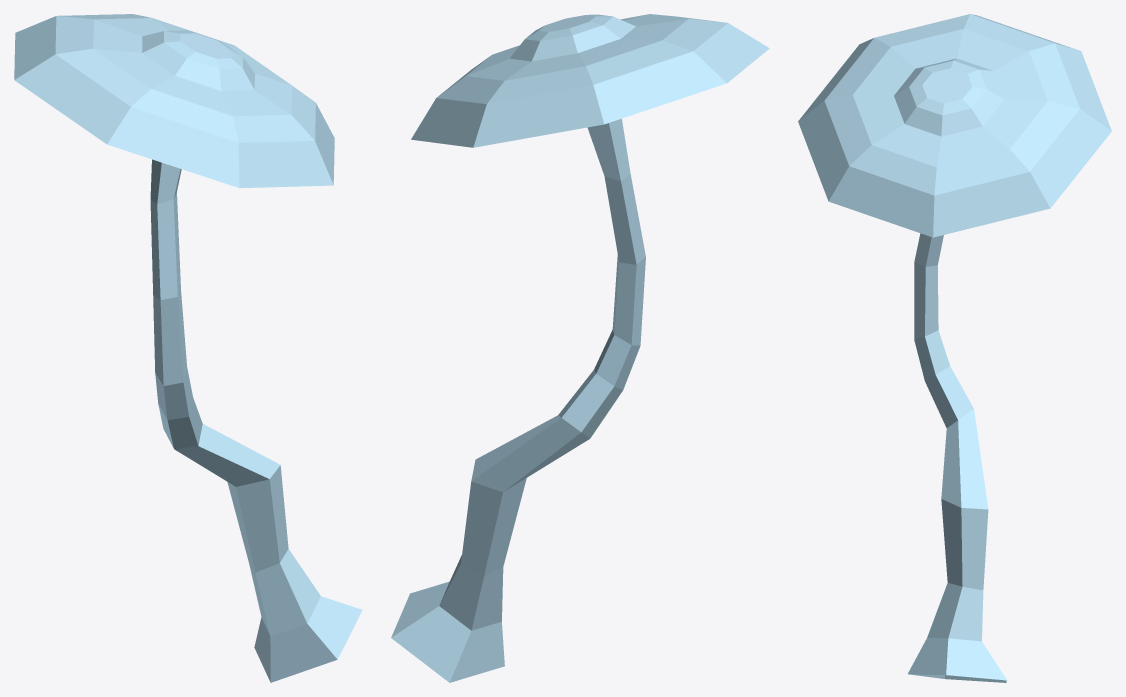
File: Mushrooms_13.fbx
3 views of the same model, side by side, from view 1: azimuth 30°, elevation 25°; view 2: azimuth 150°, elevation 25°; view 3: azimuth 270°, elevation 25° (orthographic). The views are drawn at different scales.
Parts seen in each view (by area): view 1: Mushrooms_13; view 2: Mushrooms_13; view 3: Mushrooms_13.
Part boxes in pixels (left/top/right/bottom): Mushrooms_13: left=14, top=14, right=362, bottom=682; Mushrooms_13: left=391, top=14, right=769, bottom=682; Mushrooms_13: left=798, top=14, right=1111, bottom=682.
Size of the model in its own units: 0.5676 by 0.5366 by 1.09.
